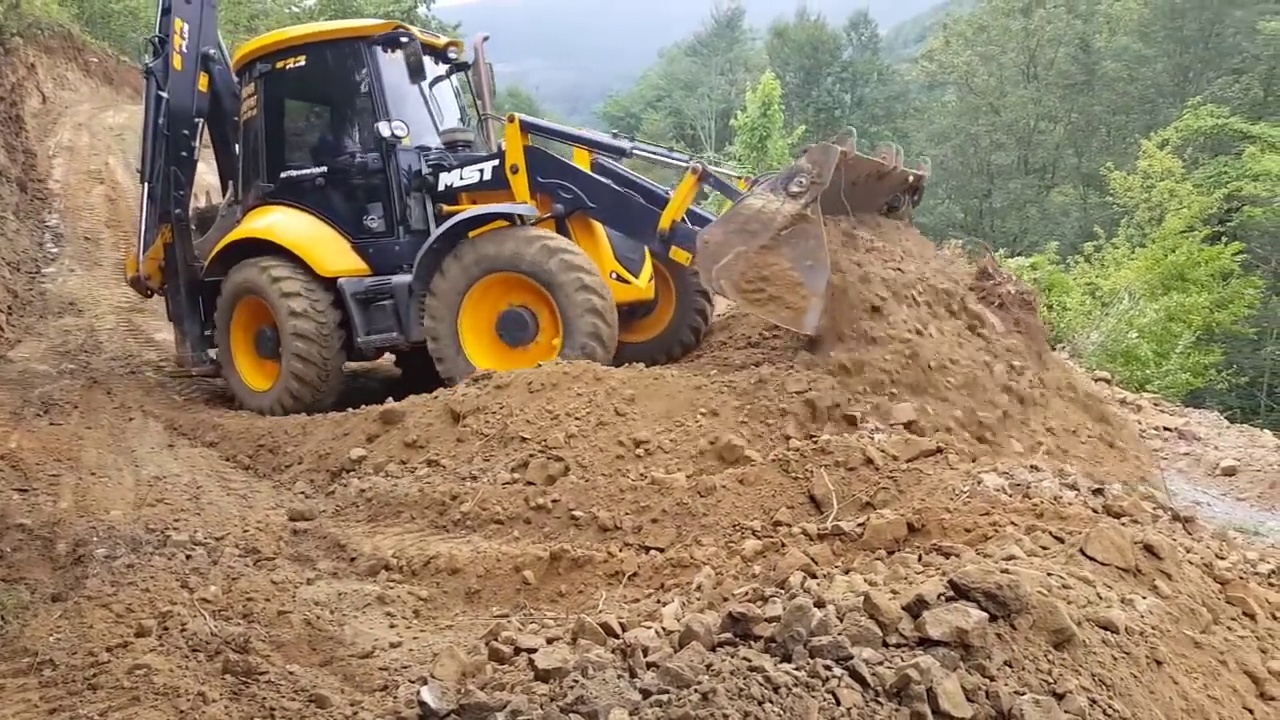wheel loader: (125, 2, 940, 411)
